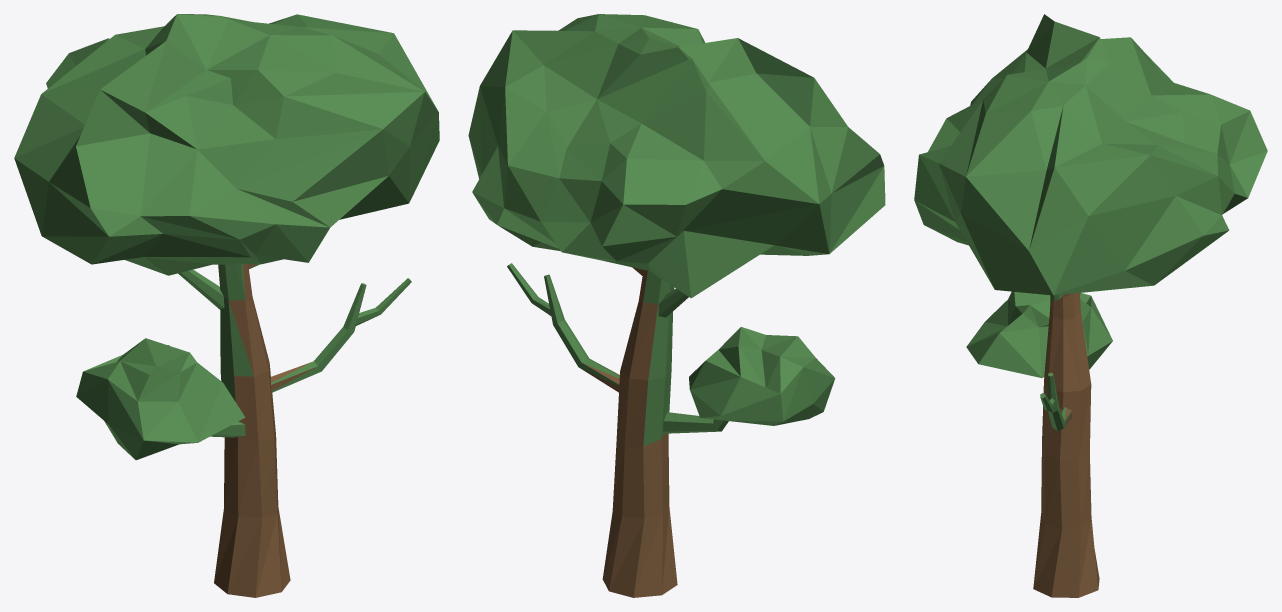
File: tree3d-070.glb
3 views of the same model, side by side, from view 1: azimuth 30°, elevation 25°; view 2: azimuth 150°, elevation 25°; view 3: azimuth 270°, elevation 25° (orthographic). The views are drawn at different scales.
Visible parts, largest first — view 1: tree3d-070; view 2: tree3d-070; view 3: tree3d-070.
Part boxes in pixels (<box>): tree3d-070: <box>14,14,439,597</box>; tree3d-070: <box>468,14,885,597</box>; tree3d-070: <box>914,14,1267,597</box>.
Bounding box in the file's own units: 0.7187 × 1 × 0.6149.
